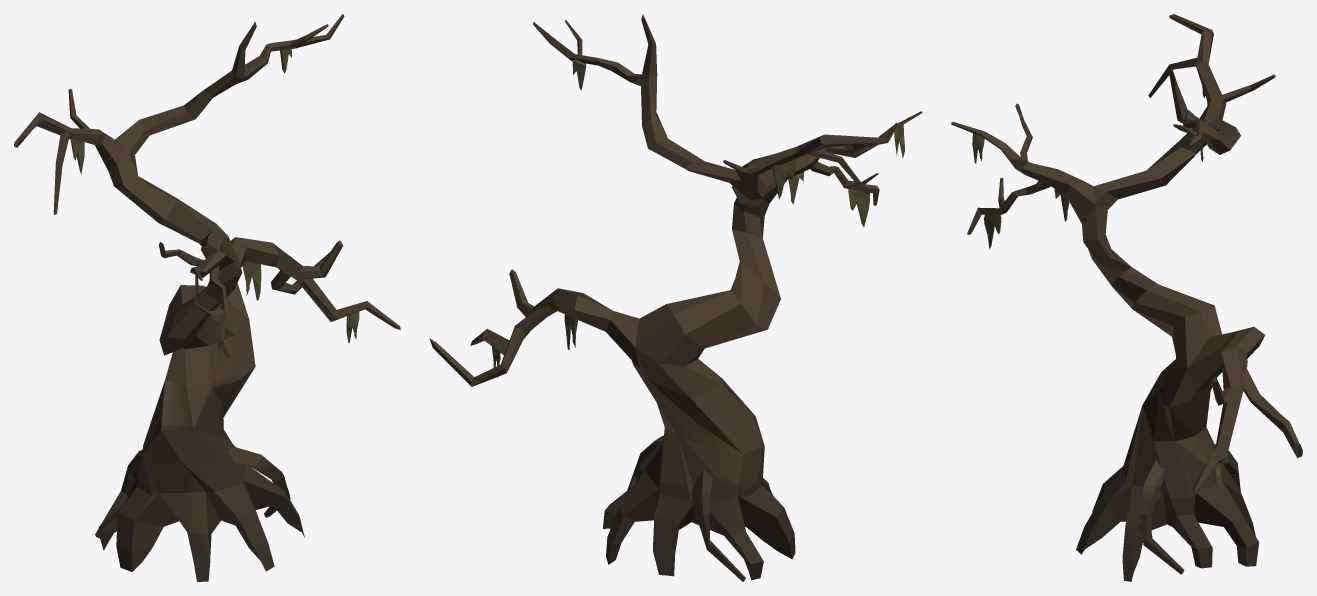
File: bog_tree.gltf
3 renders of one model, left to right at view 1: azimuth 30°, elevation 25°; view 2: azimuth 150°, elevation 25°; view 3: azimuth 270°, elevation 25°, orthographic. The views are drawn at different scales.
Parts seen in each view (by area): view 1: bog_tree; view 2: bog_tree; view 3: bog_tree.
Part boxes in pixels (x1=…): bog_tree: x1=14, y1=14, x2=400, y2=581; bog_tree: x1=429, y1=14, x2=922, y2=581; bog_tree: x1=951, y1=14, x2=1302, y2=581.
Bounding box in the file's own units: 8.35 × 10.21 × 6.45.
Materials: 1 (1 with a texture image).
